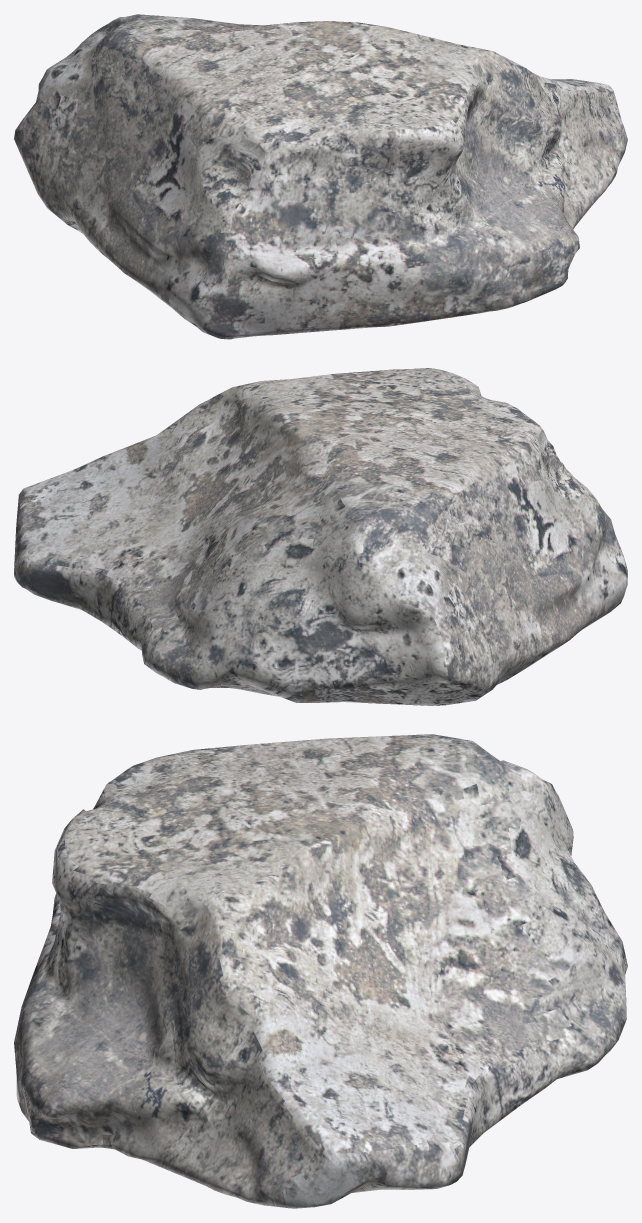
The model's file is SM_Small_Rock_B.fbx.
The picture shows the model from 3 angles, top to bottom: view 1: azimuth 30°, elevation 25°; view 2: azimuth 150°, elevation 25°; view 3: azimuth 270°, elevation 25°; orthographic projection. The views are drawn at different scales.
Visible parts, largest first — view 1: SM_Small_Rock_B_LOD0; view 2: SM_Small_Rock_B_LOD0; view 3: SM_Small_Rock_B_LOD0.
Boxes of the visible parts, x1,y1,x2,y2 form: SM_Small_Rock_B_LOD0: [14, 14, 627, 339]; SM_Small_Rock_B_LOD0: [14, 368, 627, 705]; SM_Small_Rock_B_LOD0: [14, 734, 627, 1208].
Size of the model in its own units: 187 by 156 by 71.51.
Materials: 1 (1 with a texture image).
